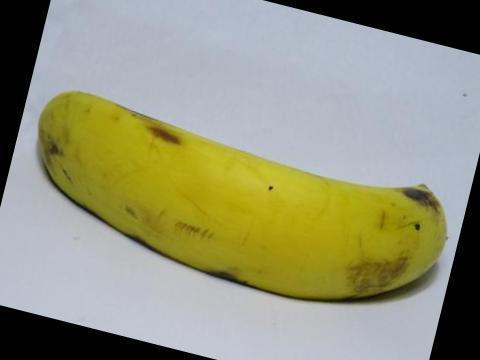freshripe: (24, 75, 462, 314)
